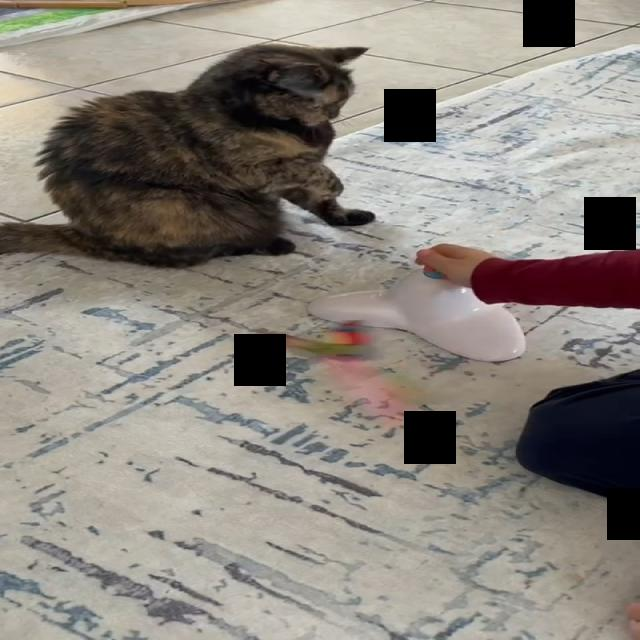authorized: (0, 42, 376, 268)
